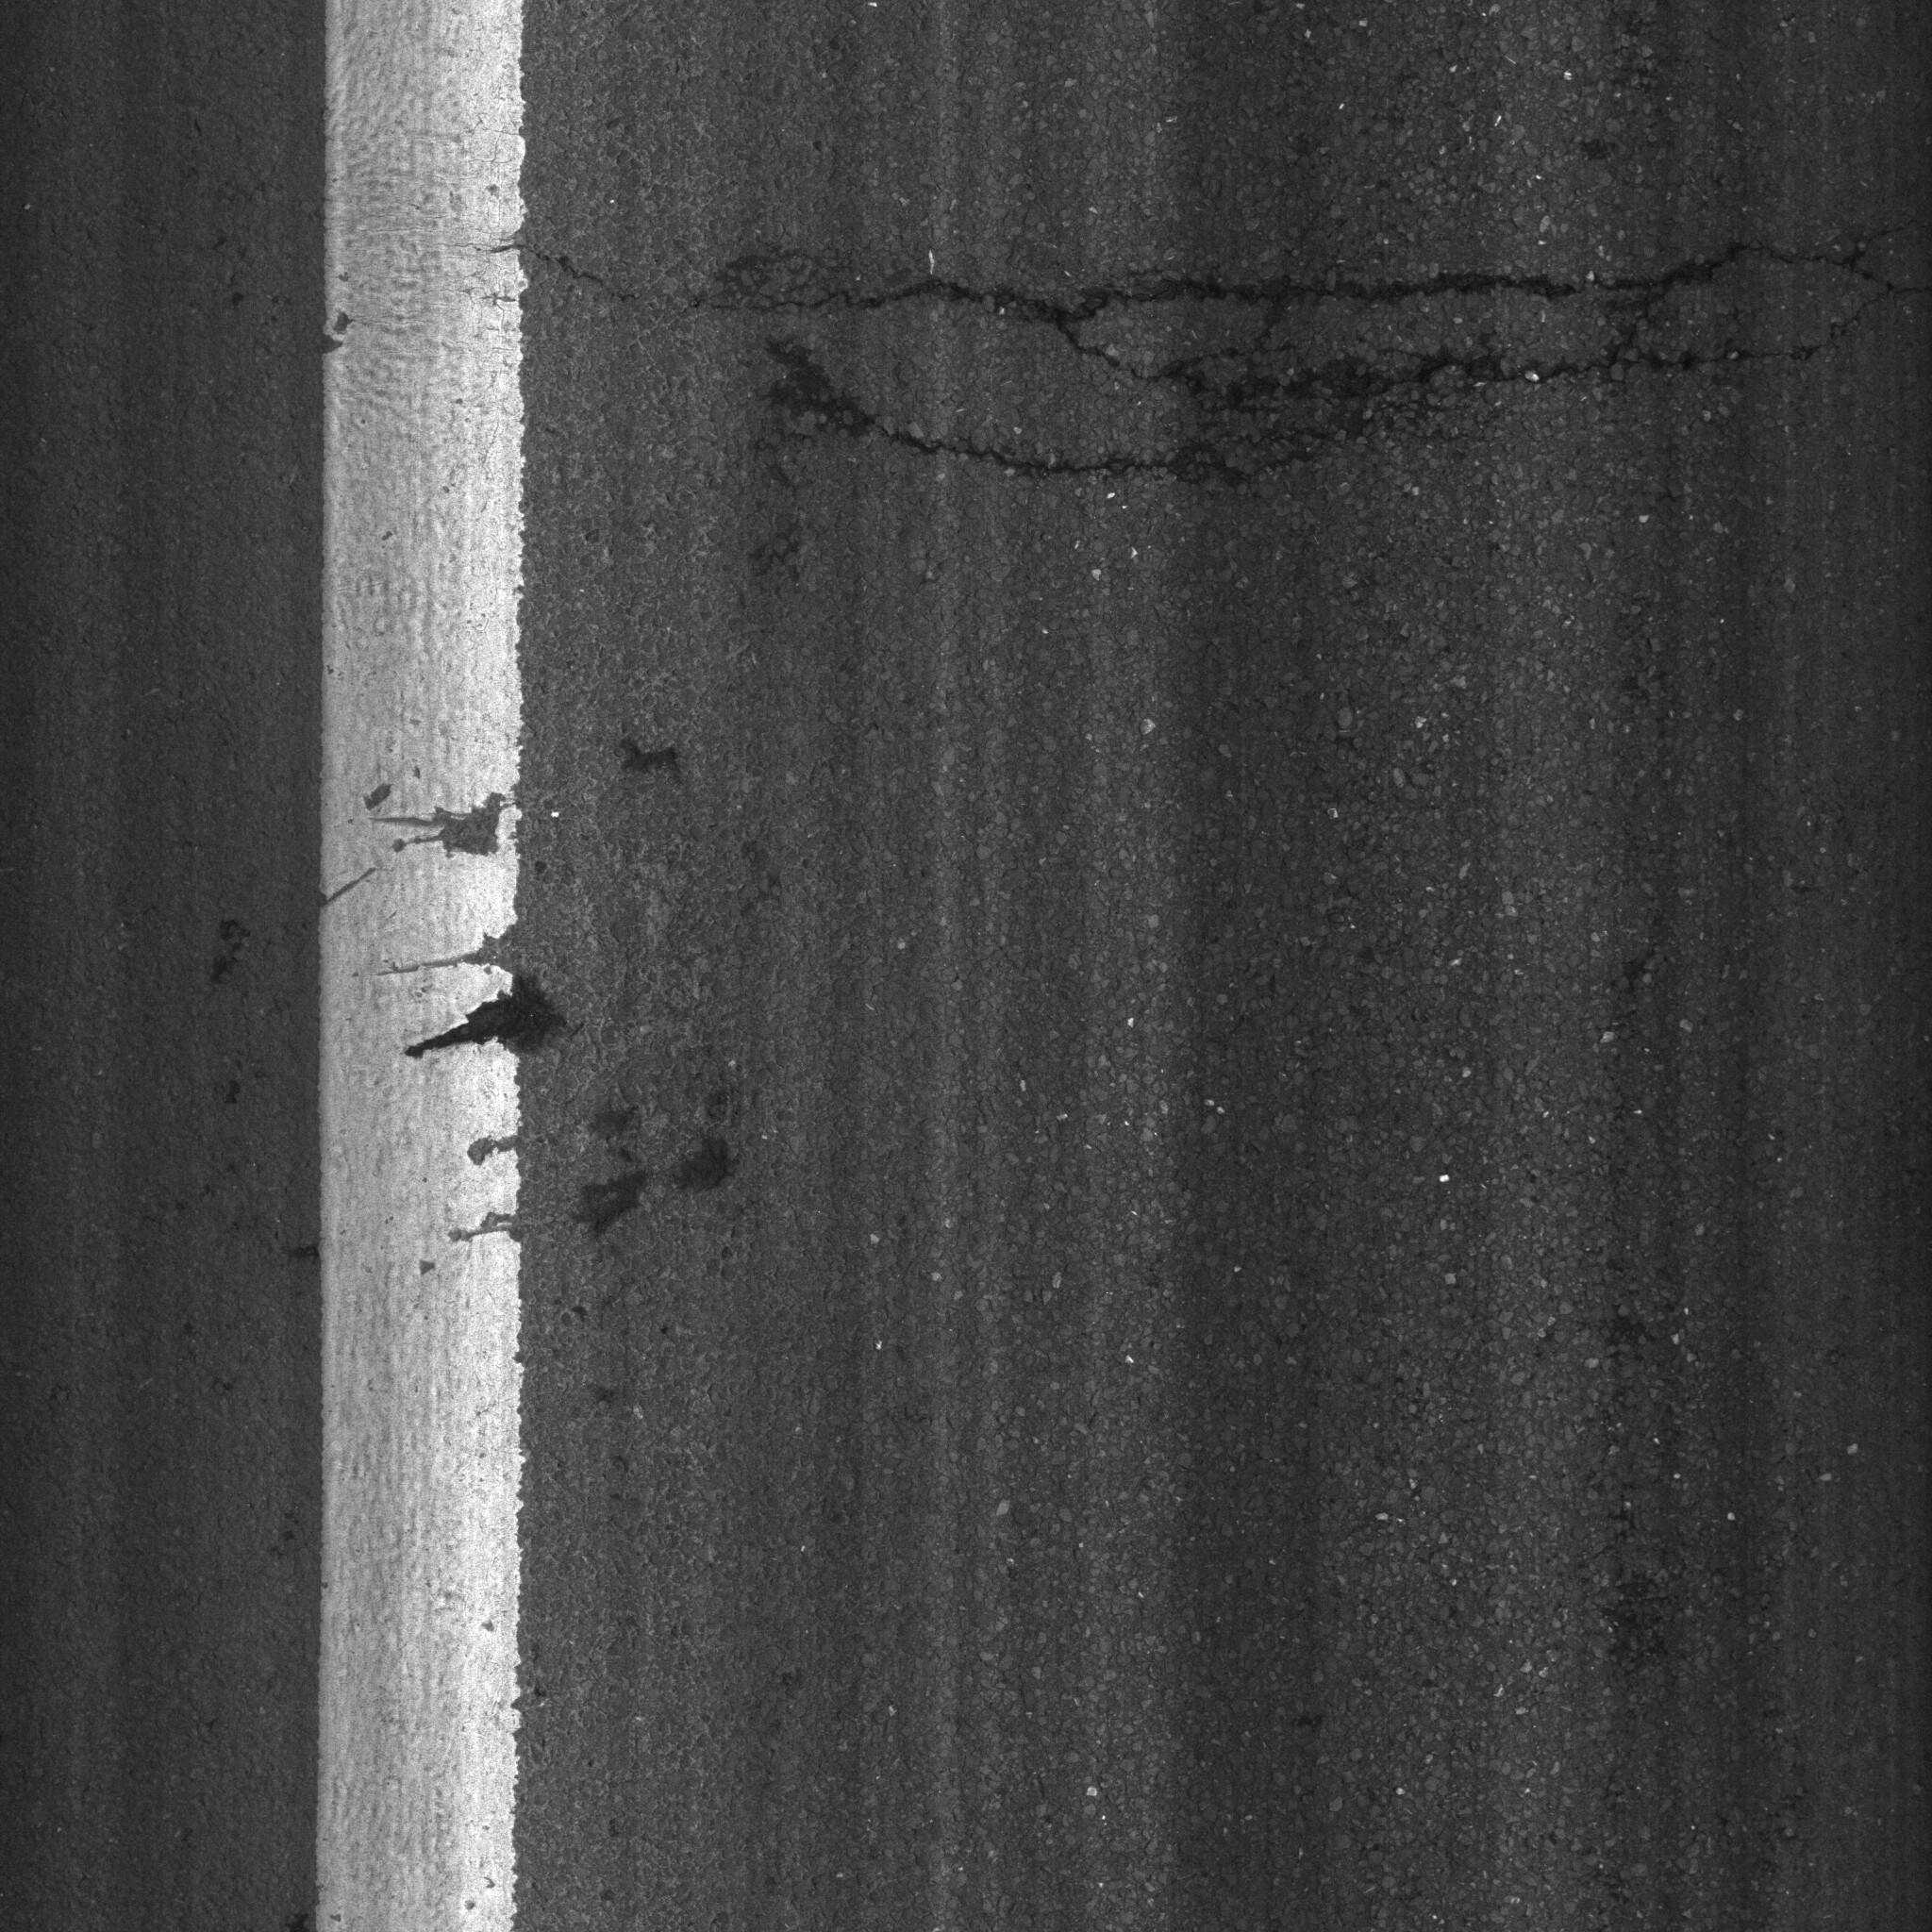transverse: (548, 154, 1928, 517)
